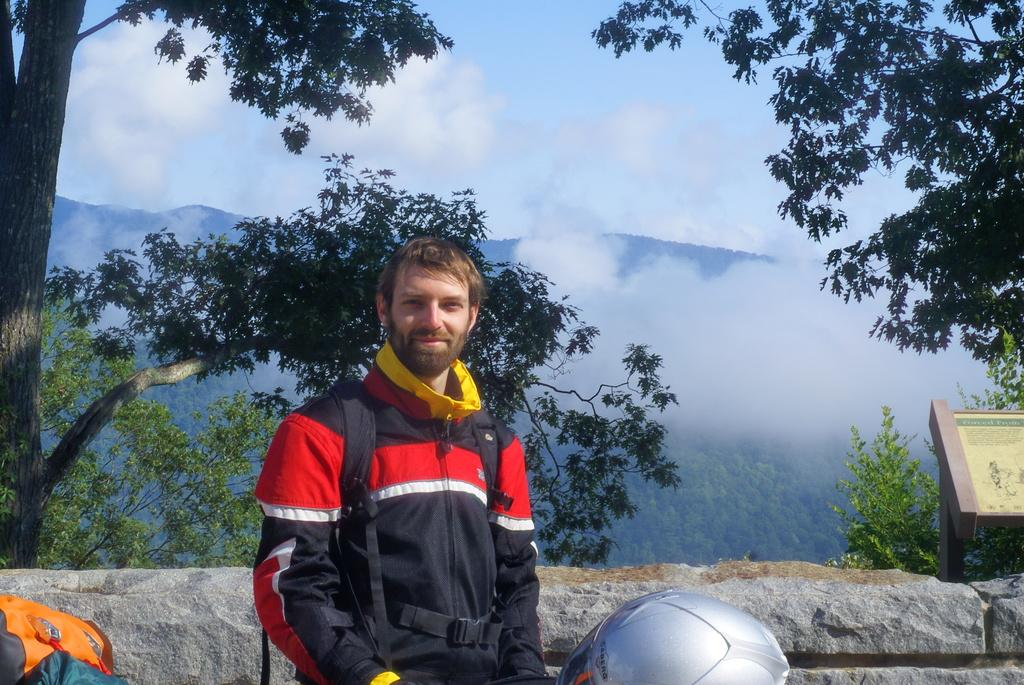helmet: (554, 589, 790, 685)
nohelmet: (375, 238, 481, 379)
